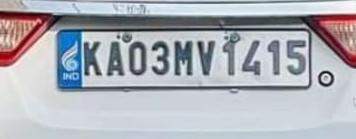0: (127, 40, 148, 76)
1: (221, 37, 239, 79), (265, 36, 282, 77)
3: (150, 38, 172, 78)
4: (238, 38, 265, 80)
5: (284, 36, 308, 78)
A: (104, 40, 127, 77)
K: (82, 38, 102, 77)
V: (195, 37, 217, 78)
m: (173, 37, 195, 77)
